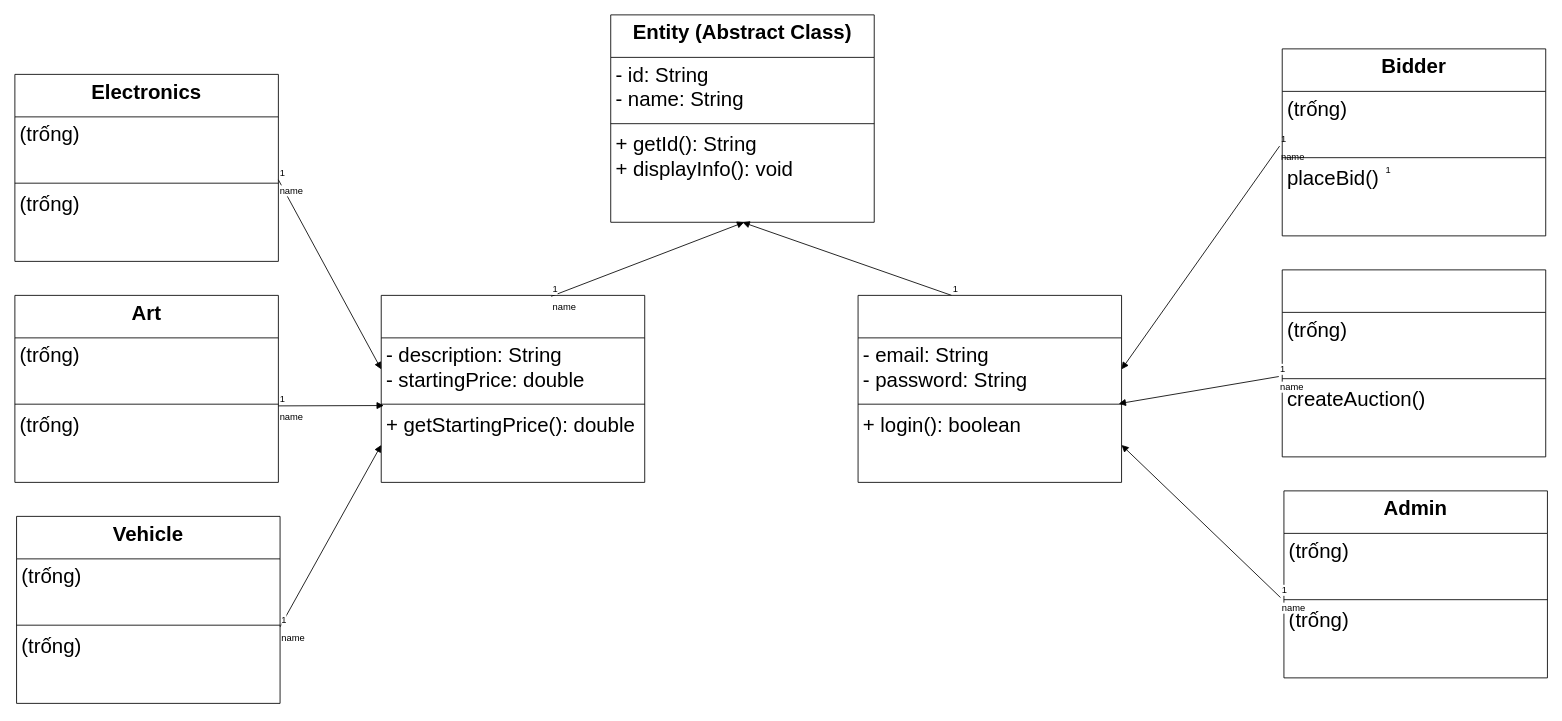
Some shapes in this 1562 by 721 pixel diagram are drawn without their labels. The shapes that lost their labels are listed below. From the top down, each one's box as (x1, y1, x2, y2) in pixels, then its label:
(1281, 269, 1546, 457): Seller
(380, 295, 645, 482): Item (Abstract Class)
(857, 295, 1122, 482): User (Abstract Class)
